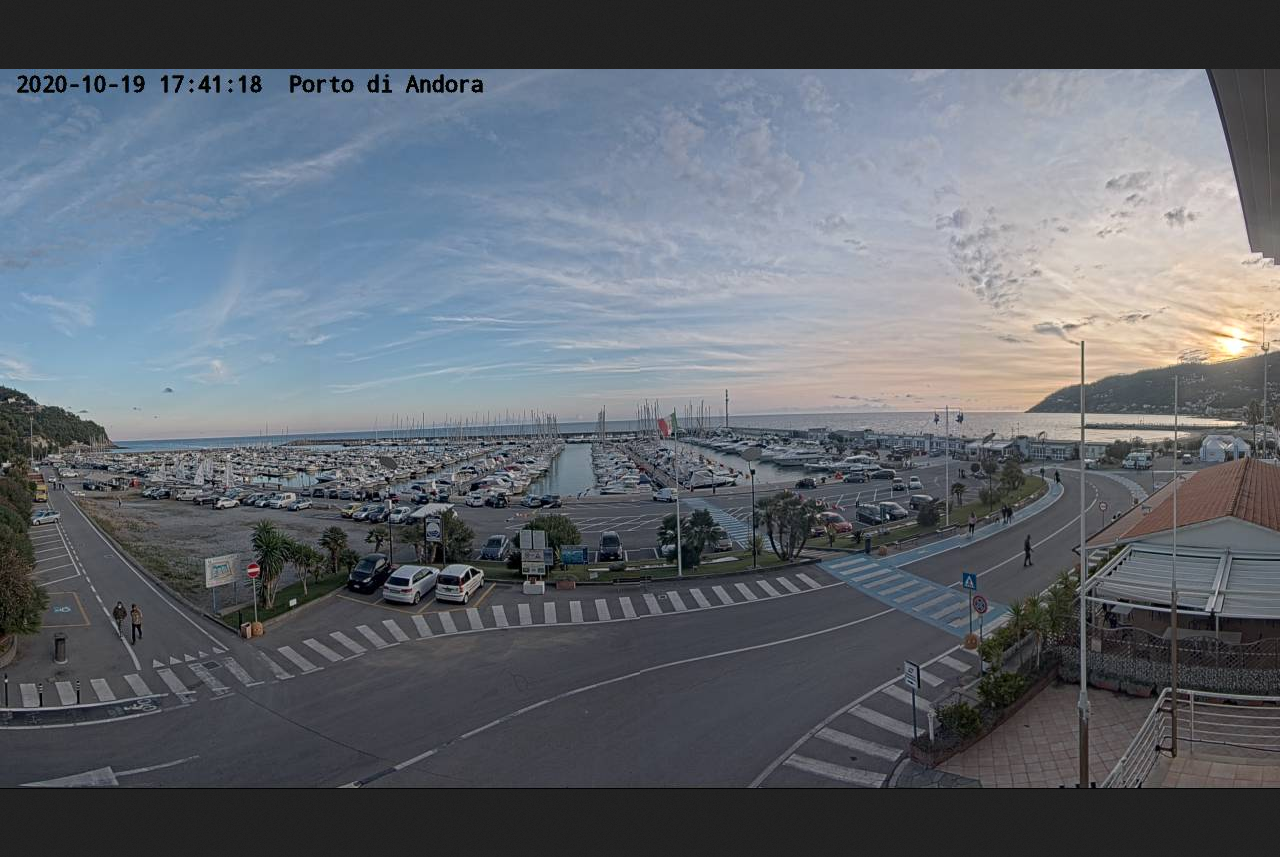yes: (653, 413, 676, 437)
